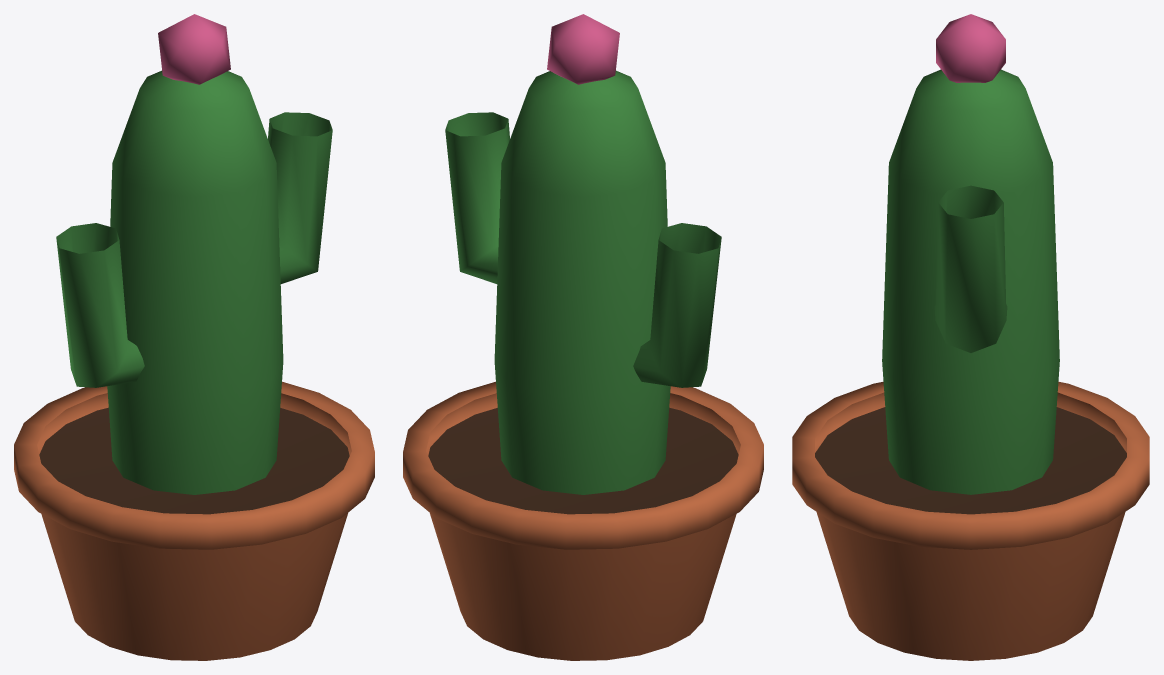
Rendered from furn_plant_cactus.glb.
The picture shows the model from 3 angles, left to right: view 1: azimuth 30°, elevation 25°; view 2: azimuth 150°, elevation 25°; view 3: azimuth 270°, elevation 25°; orthographic projection.
Visible parts, largest first — view 1: furn_plant_cactus_main; view 2: furn_plant_cactus_main; view 3: furn_plant_cactus_main.
Part boxes in pixels (left/top/right/bottom): furn_plant_cactus_main: left=14, top=14, right=374, bottom=660; furn_plant_cactus_main: left=403, top=14, right=763, bottom=660; furn_plant_cactus_main: left=792, top=14, right=1149, bottom=660.
Bounding box in the file's own units: 0.264 × 0.48 × 0.2613.
